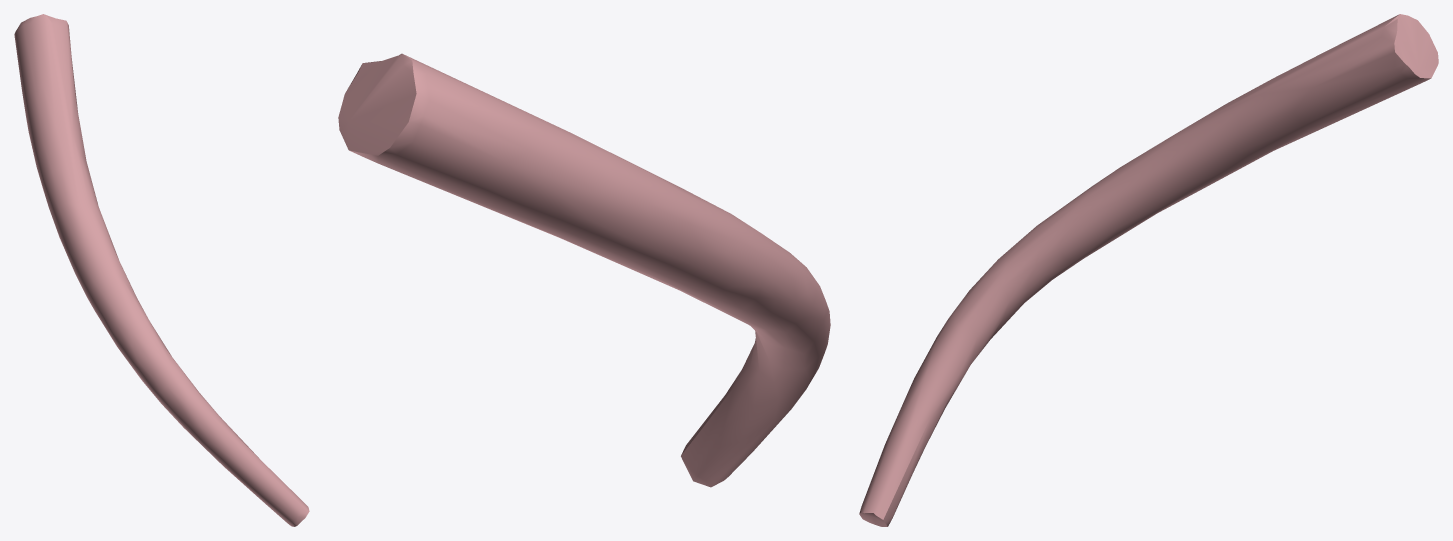
File: fma68214_fj2451.glb
3 views of the same model, side by side, from view 1: azimuth 30°, elevation 25°; view 2: azimuth 150°, elevation 25°; view 3: azimuth 270°, elevation 25° (orthographic). The views are drawn at different scales.
Parts seen in each view (by area): view 1: FMA68214_FJ2451; view 2: FMA68214_FJ2451; view 3: FMA68214_FJ2451.
Part boxes in pixels (x1,y1,x2,y2): FMA68214_FJ2451: [14, 14, 309, 526]; FMA68214_FJ2451: [338, 53, 830, 487]; FMA68214_FJ2451: [859, 14, 1438, 526].
Bounding box in the file's own units: 0.0203 × 0.0552 × 0.0602.
